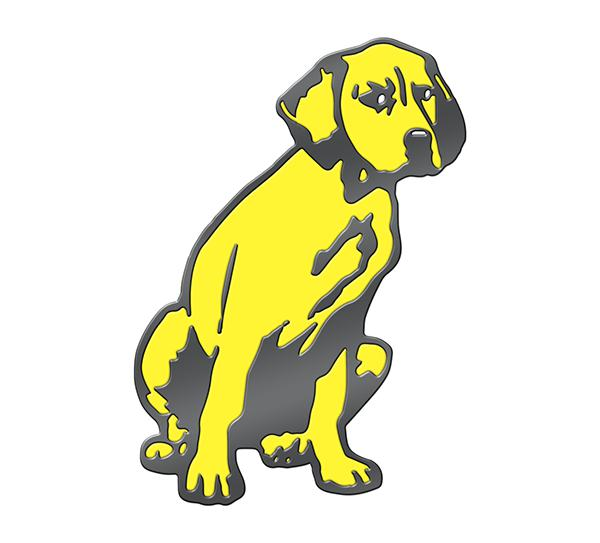dog: (136, 34, 472, 511)
